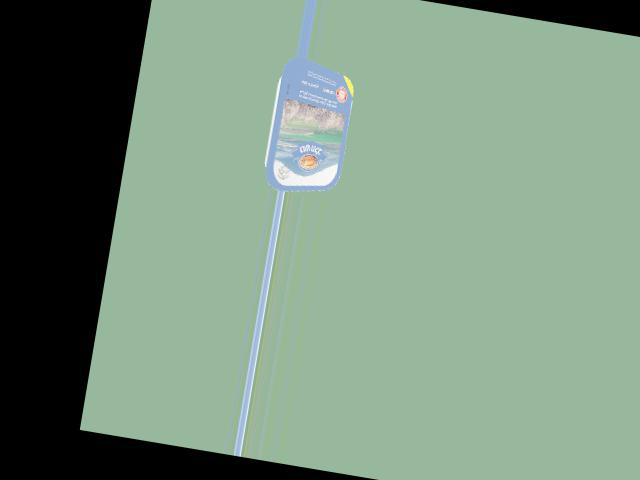cheese: (253, 67, 359, 191)
